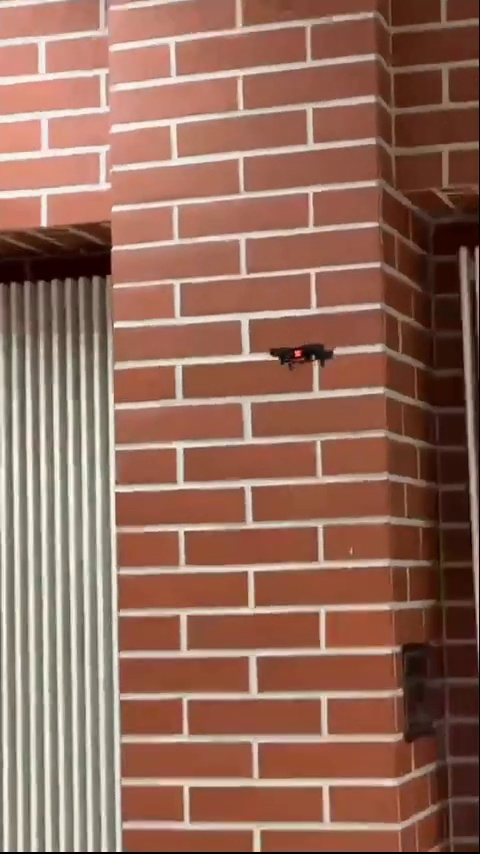drone: (272, 340, 336, 369)
